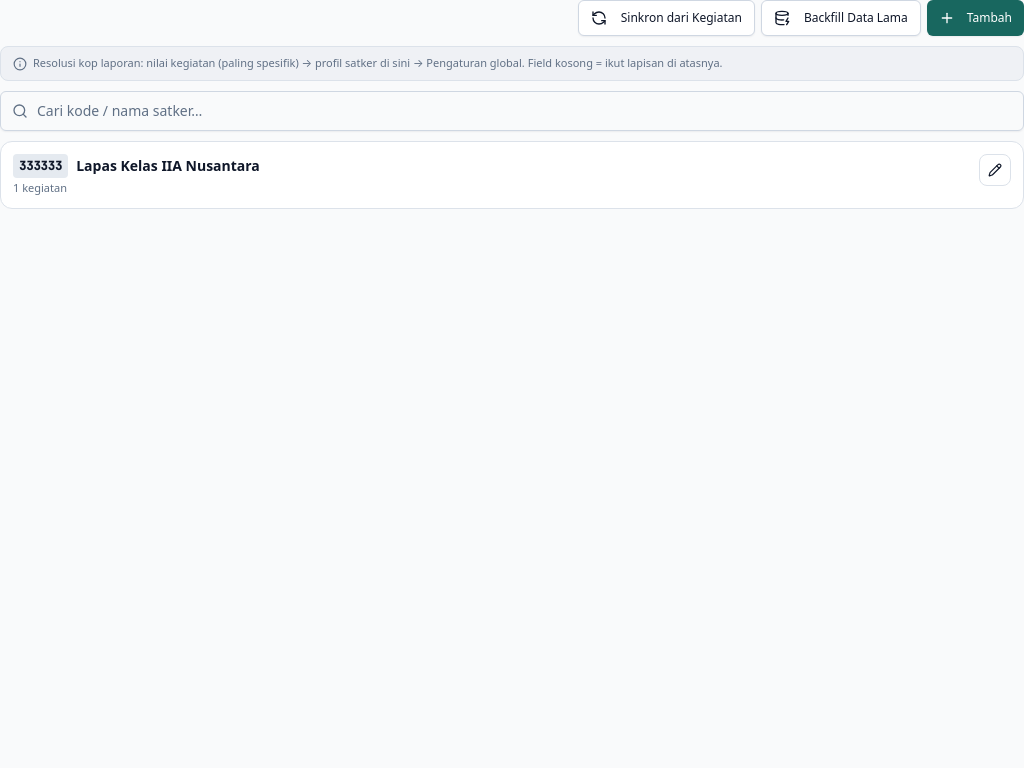
Scenario: satker lama tanpa field itu tampil sebagai Eselon I bawaan
Click the button named "Ubah 333333" at (995, 170), box [979,154,1011,186]
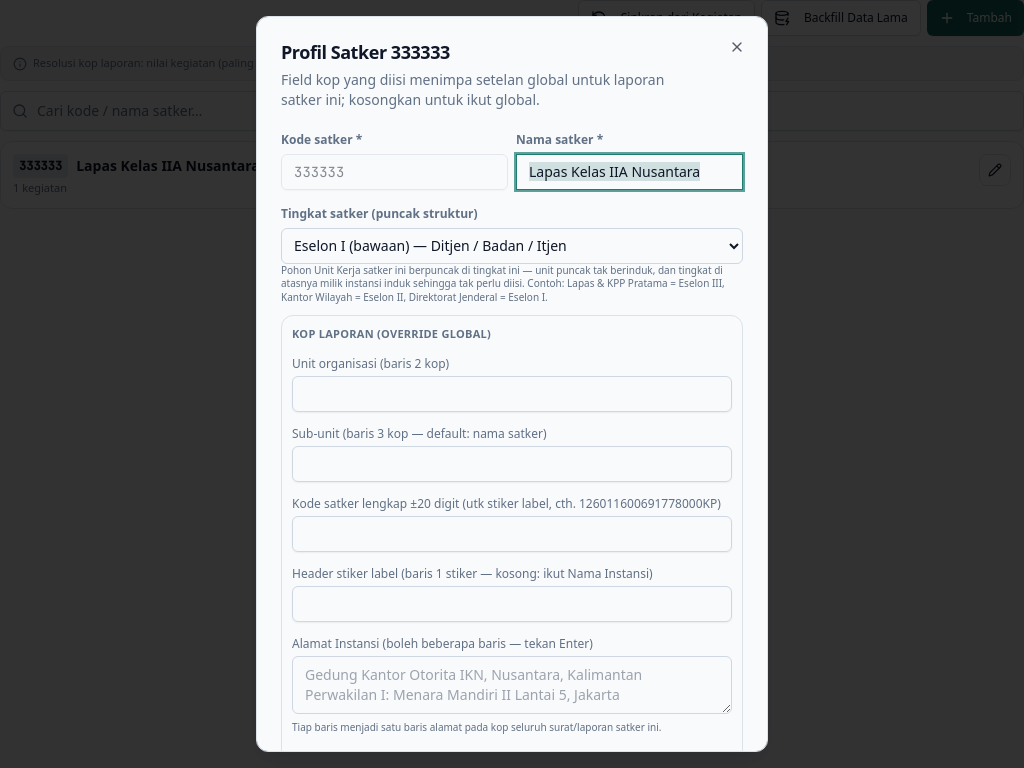
Result: the dropdown with test id "satker-form-eselon_satker" shows "Eselon I (bawaan) — Ditjen / Badan / Itjen" at [281,228,743,264]
